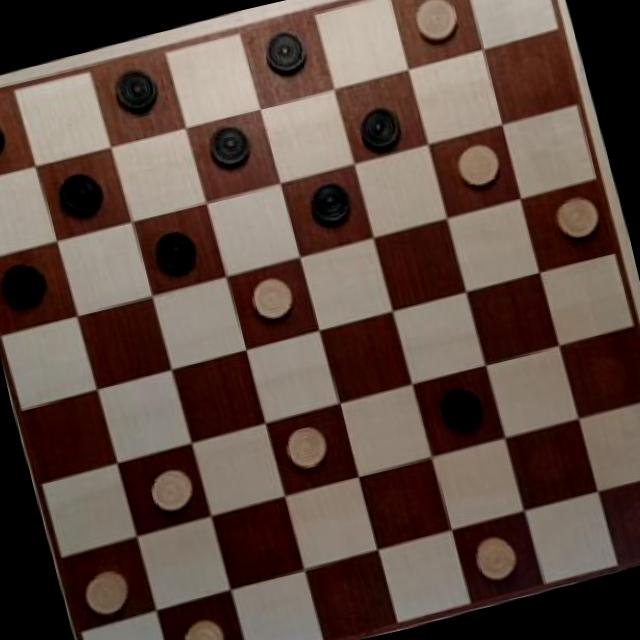BOARD: (0, 0, 640, 640)
black: (0, 247, 56, 319), (48, 166, 113, 223), (105, 62, 165, 122), (300, 174, 359, 234), (148, 222, 205, 284), (431, 374, 484, 438), (353, 97, 409, 157), (200, 117, 256, 175), (258, 22, 308, 82), (0, 98, 14, 172)
white: (76, 560, 138, 626), (445, 133, 509, 195), (548, 188, 609, 248), (278, 417, 334, 479), (466, 525, 521, 585), (249, 272, 298, 330), (409, 0, 465, 47), (146, 464, 195, 514), (174, 615, 229, 640)
